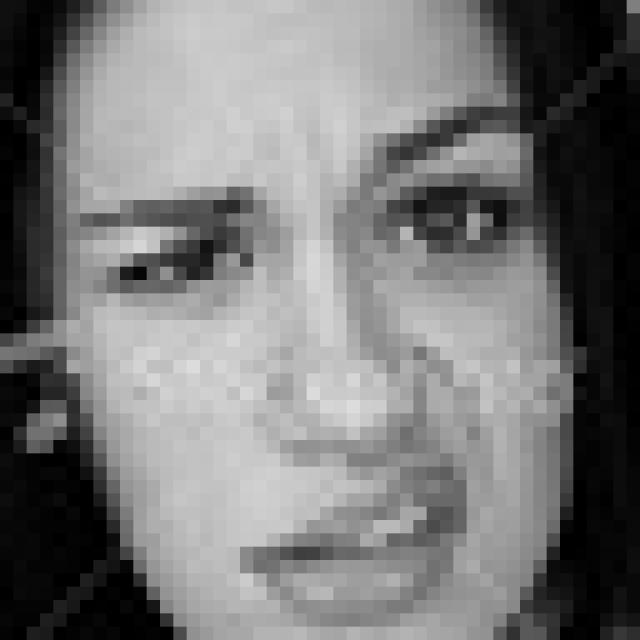disgust: (72, 104, 539, 622)
